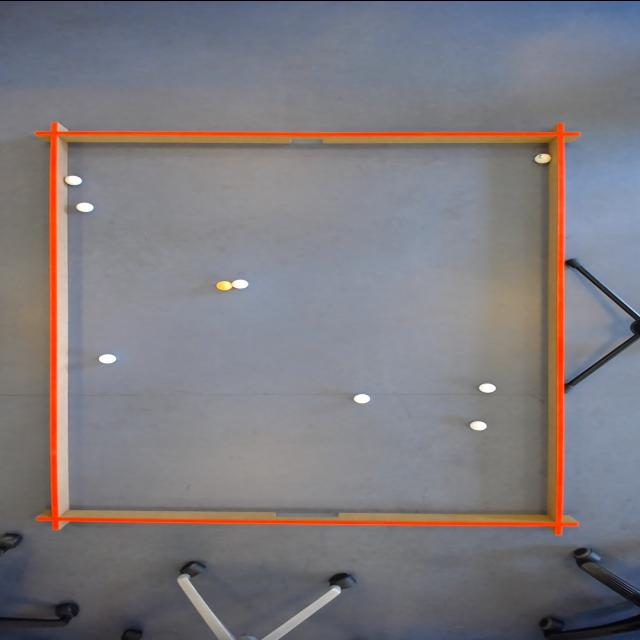orange_ball: (213, 279, 235, 291)
white_ball: (466, 418, 490, 432), (475, 380, 501, 392), (72, 200, 96, 213), (530, 151, 556, 163), (61, 172, 85, 185), (92, 352, 118, 363), (352, 392, 374, 404), (230, 277, 252, 288)
